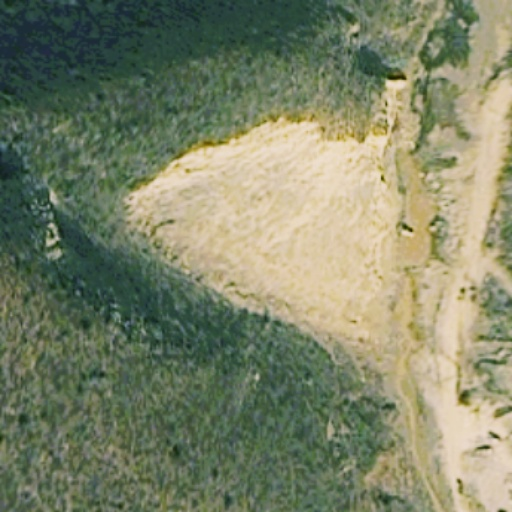landslide: (126, 118, 400, 349)
